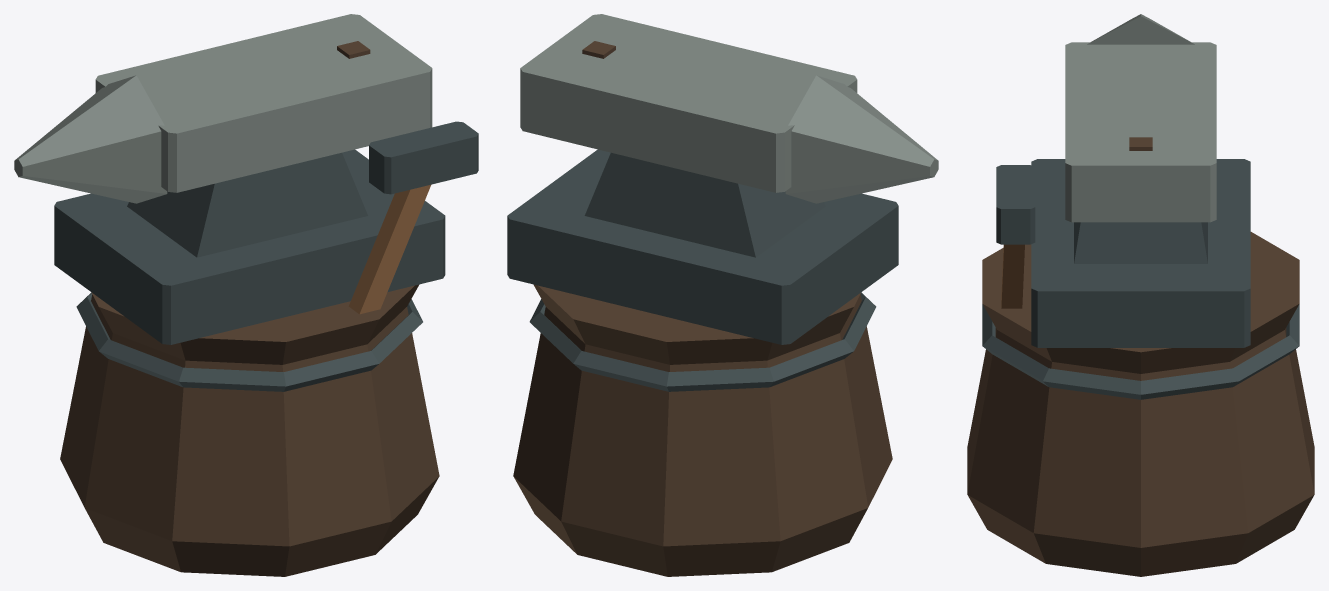
Rendered from anvil.glb.
3 renders of one model, left to right at view 1: azimuth 30°, elevation 25°; view 2: azimuth 150°, elevation 25°; view 3: azimuth 270°, elevation 25°, orthographic. The views are drawn at different scales.
Visible parts, largest first — view 1: geometry; view 2: geometry; view 3: geometry.
Part boxes in pixels (x1,y1,x2,y2): geometry: [14, 14, 478, 576]; geometry: [507, 14, 938, 576]; geometry: [967, 14, 1314, 576].
Size of the model in its own units: 0.84 by 0.93 by 0.6657.
